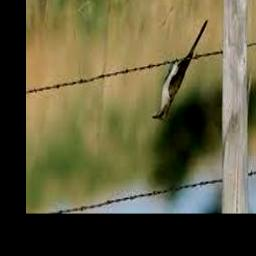Cuckoo: (151, 20, 207, 122)
